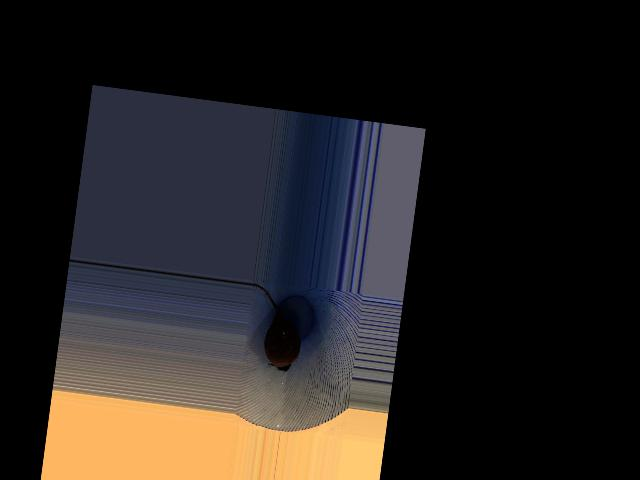beet: (240, 284, 307, 373)
